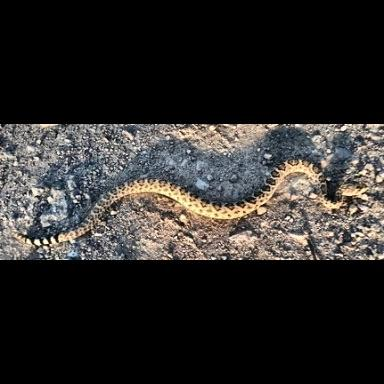snake: (0, 124, 384, 261)
